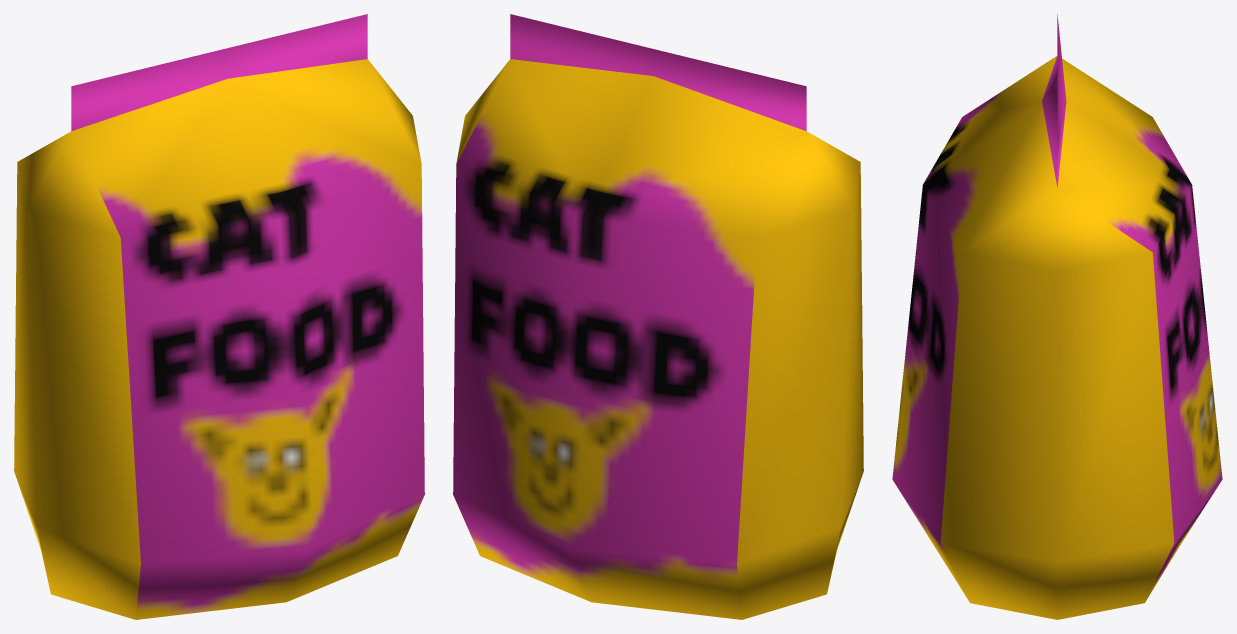
Rendered from Catfood.fbx.
3 renders of one model, left to right at view 1: azimuth 30°, elevation 25°; view 2: azimuth 150°, elevation 25°; view 3: azimuth 270°, elevation 25°, orthographic. The views are drawn at different scales.
Parts seen in each view (by area): view 1: Catfood_1; view 2: Catfood_1; view 3: Catfood_1.
Boxes of the visible parts, x1,y1,x2,y2 form: Catfood_1: (14,14,424,619); Catfood_1: (453,14,863,619); Catfood_1: (892,14,1222,619).
Size of the model in its own units: 55.65 by 69.14 by 44.63.
